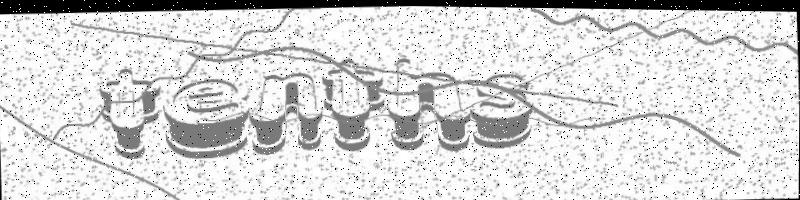e: (162, 71, 250, 157)
h: (386, 53, 472, 158)
n: (249, 68, 329, 159)
s: (468, 70, 542, 150)
t: (94, 56, 165, 158), (320, 52, 389, 153)
